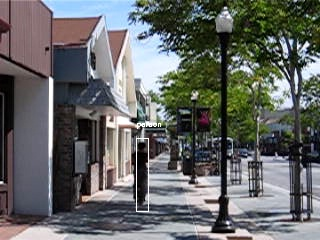person: (132, 142, 151, 204), (131, 142, 150, 204), (133, 142, 152, 204), (132, 141, 151, 203), (132, 143, 151, 205)
target_negative: (159, 50, 320, 94), (66, 8, 146, 95), (194, 187, 254, 228), (98, 123, 129, 163), (292, 72, 300, 156), (1, 75, 16, 118)
